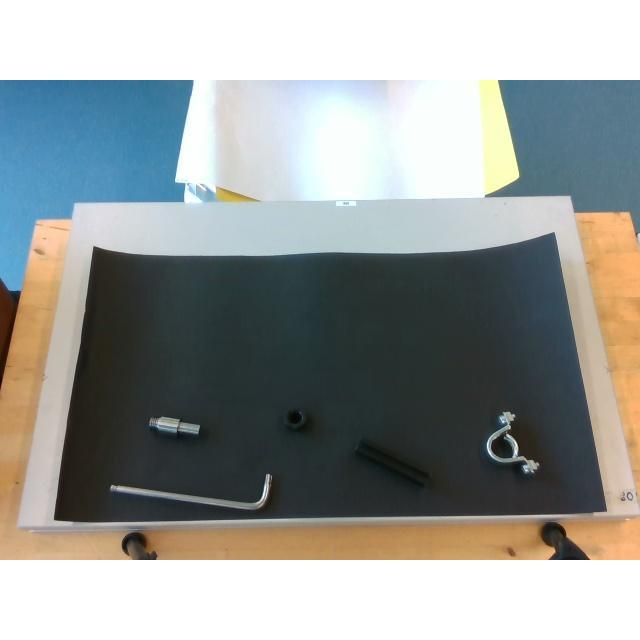AllenKey: (110, 474, 270, 510)
Axis2: (144, 418, 200, 438)
F20_20_B: (354, 438, 430, 486)
Housing: (484, 410, 540, 478)
M20: (284, 408, 308, 432)
